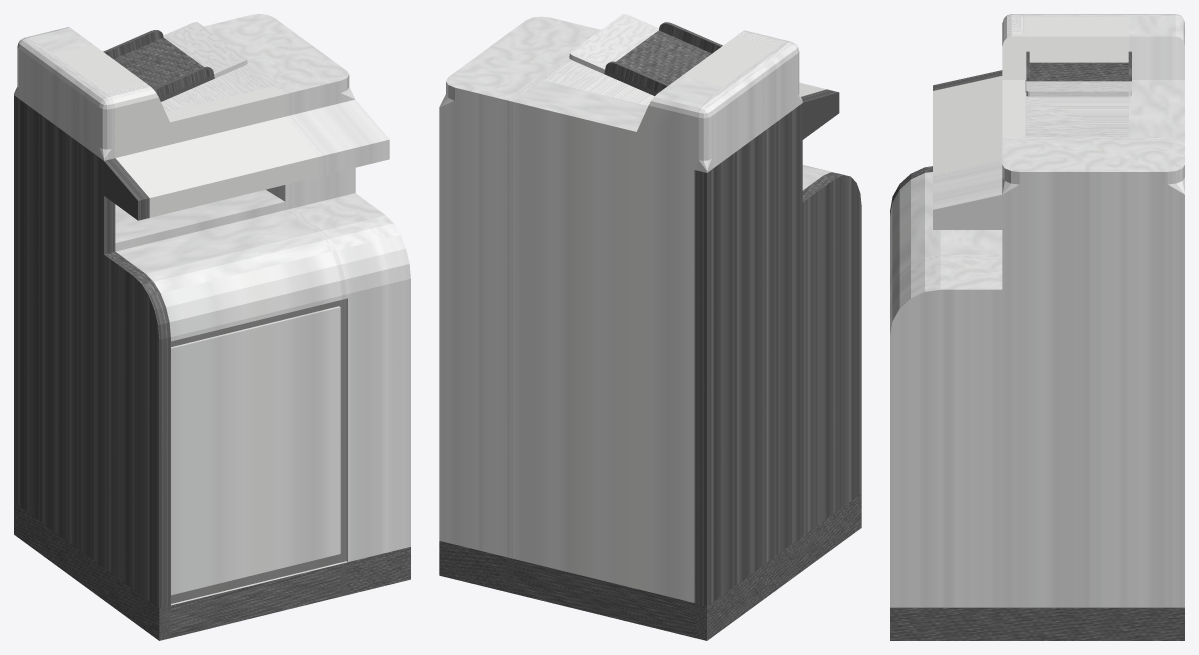
The model's file is PrinterV2.gltf.
3 views of the same model, side by side, from view 1: azimuth 30°, elevation 25°; view 2: azimuth 150°, elevation 25°; view 3: azimuth 270°, elevation 25° (orthographic). The views are drawn at different scales.
Visible parts, largest first — view 1: Cube, Cube.001; view 2: Cube, Cube.001; view 3: Cube, Cube.001.
Boxes of the visible parts, left/top/right/bottom form: Cube: left=14, top=14, right=410, bottom=640; Cube.001: left=103, top=22, right=247, bottom=101; Cube: left=439, top=16, right=861, bottom=640; Cube.001: left=569, top=14, right=722, bottom=95; Cube: left=890, top=14, right=1184, bottom=640; Cube.001: left=1026, top=51, right=1131, bottom=96.
Bounding box in the file's own units: 0.5 × 0.9453 × 0.5.
1 material, 1 textured.
